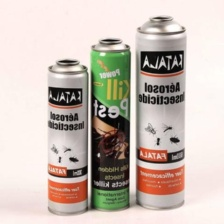aerosol_cans: (132, 12, 190, 212), (86, 35, 133, 213), (44, 56, 89, 218)
